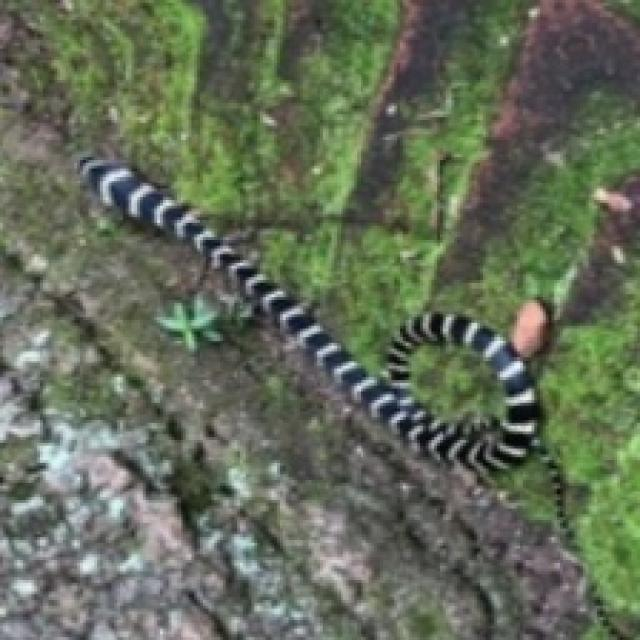king cobra: (80, 157, 537, 474), (406, 340, 503, 423)
